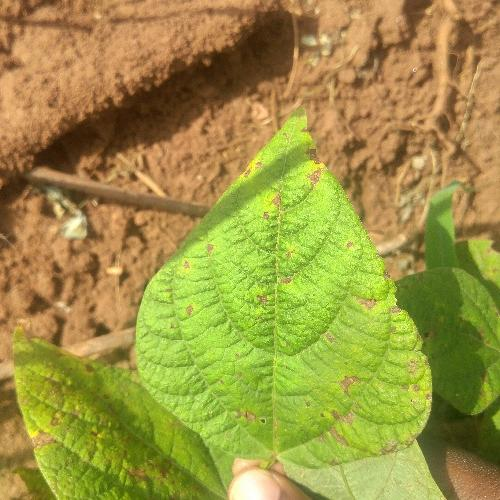hawar: (159, 180, 377, 254)
